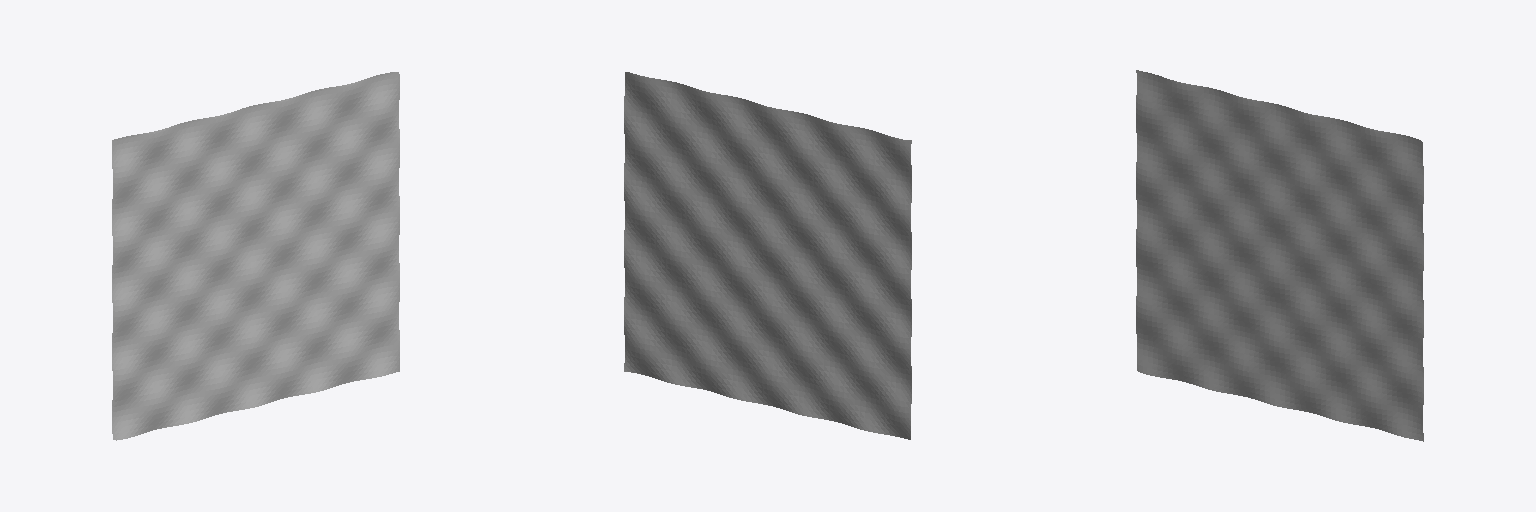
Rendered from terrain_2.obj.
3 views of the same model, side by side, from view 1: azimuth 30°, elevation 25°; view 2: azimuth 150°, elevation 25°; view 3: azimuth 330°, elevation 25° (orthographic).
Parts seen in each view (by area): view 1: Terrain; view 2: Terrain; view 3: Terrain.
Boxes of the visible parts, <box> form: Terrain: <box>112,72,399,440</box>; Terrain: <box>624,72,911,439</box>; Terrain: <box>1136,70,1423,441</box>.
Bounding box in the file's own units: 28.3 × 28.3 × 0.3675.